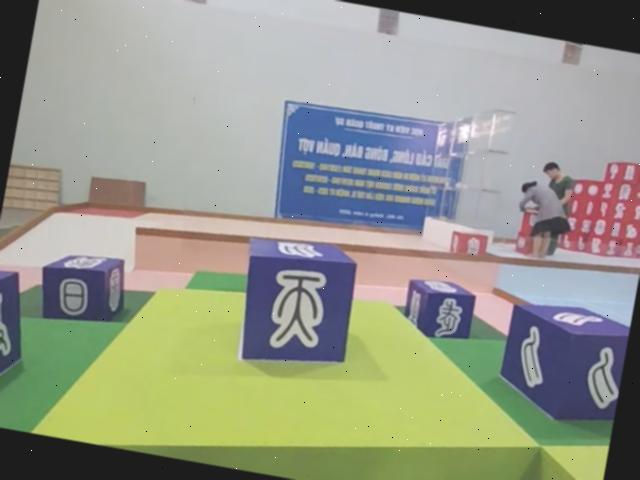R2 Fake Blue: (226, 227, 361, 376), (33, 247, 130, 334), (396, 273, 475, 344)
R2 Real Blue: (493, 294, 632, 429), (0, 268, 33, 428)
